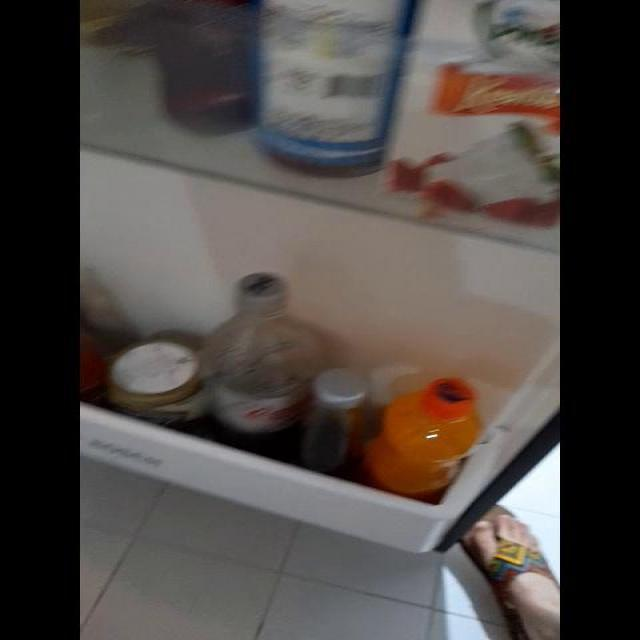cream: (405, 7, 563, 204)
